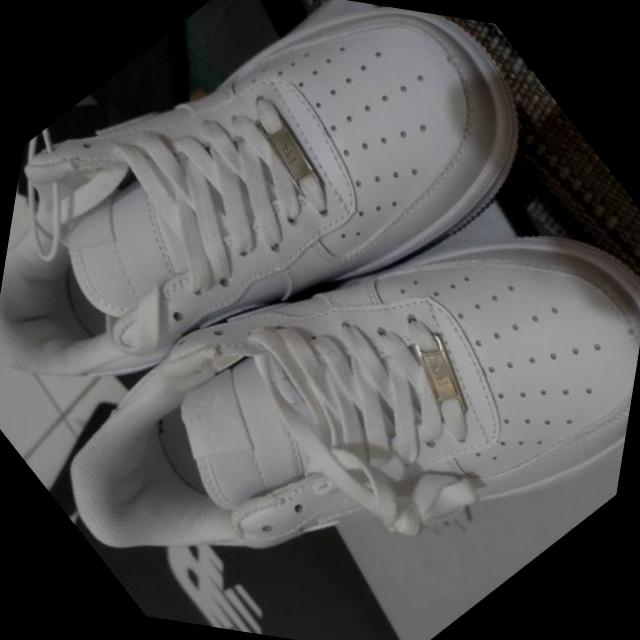nike_fake_airforce: (9, 29, 640, 640), (0, 0, 593, 594)
